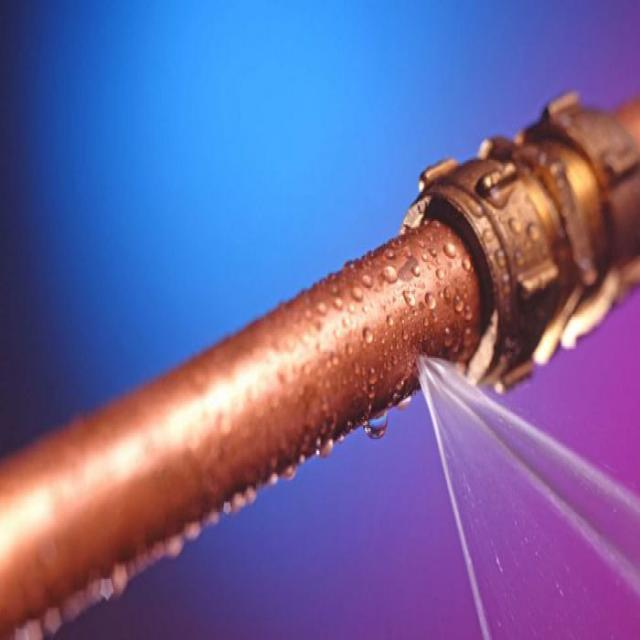leak: (412, 351, 640, 640)
